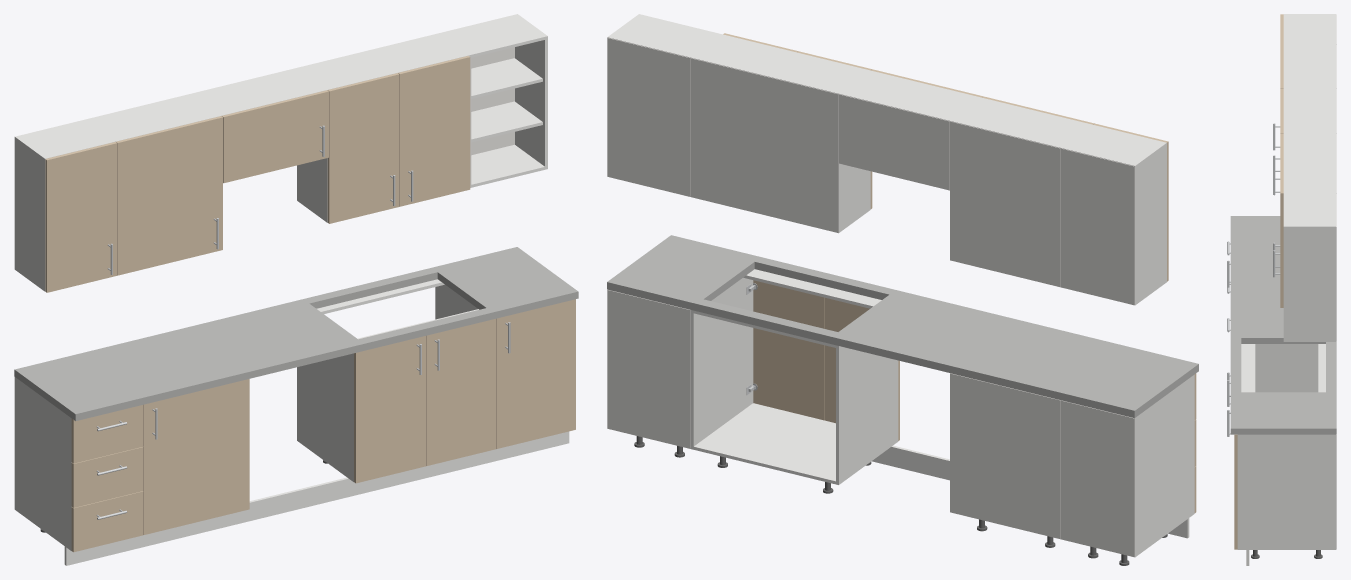
The model's file is kitchen_straight.glb.
The picture shows the model from 3 angles, left to right: view 1: azimuth 30°, elevation 25°; view 2: azimuth 150°, elevation 25°; view 3: azimuth 270°, elevation 25°; orthographic projection. The views are drawn at different scales.
Parts seen in each view (by area): view 1: 50:countertop, 64:wall[1].doors.door[1], 32:base[1].doors.door[1], 47:base[4].doors.door[1], 57:wall[0].doors.door[1], 78:wall[3].doors.door[2], 77:wall[3].doors.door[1], 38:base[3].doors.door[1], 39:base[3].doors.door[2], 1:base[0].side.left, 70:wall[2].doors.door[1], 48:kitchen.plinth[1] (+19 smaller); view 2: 50:countertop, 75:wall[3].back, 30:base[1].back, 62:wall[1].back, 45:base[4].back, 83:wall[4].back, 6:base[0].back, 55:wall[0].back, 1:base[0].side.left, 69:wall[2].back, 39:base[3].doors.door[2], 34:base[3].side.right (+12 smaller); view 3: 50:countertop, 41:base[4].side.right, 80:wall[4].side.right, 33:base[3].side.left, 74:wall[3].top, 68:wall[2].top, 61:wall[1].top, 82:wall[4].top, 54:wall[0].top, 36:base[3].rail.front, 78:wall[3].doors.door[2], 47:base[4].doors.door[1] (+3 smaller).
Part boxes in pixels (x1,y1,x2,y2): 50:countertop: (14,247,578,421); 64:wall[1].doors.door[1]: (116,116,222,275); 32:base[1].doors.door[1]: (143,379,249,534); 47:base[4].doors.door[1]: (496,299,575,448); 57:wall[0].doors.door[1]: (45,142,117,292); 78:wall[3].doors.door[2]: (398,56,470,206); 77:wall[3].doors.door[1]: (327,73,399,223); 38:base[3].doors.door[1]: (354,336,425,483); 39:base[3].doors.door[2]: (426,318,496,466); 1:base[0].side.left: (14,377,71,551); 70:wall[2].doors.door[1]: (222,90,328,183); 48:kitchen.plinth[1]: (64,451,489,565); 50:countertop: (607,235,1198,417); 75:wall[3].back: (690,58,838,232); 30:base[1].back: (950,373,1060,538); 62:wall[1].back: (950,121,1060,286); 45:base[4].back: (607,289,690,448); 83:wall[4].back: (607,38,690,196); 6:base[0].back: (1061,400,1134,557); 55:wall[0].back: (1061,148,1134,305); 1:base[0].side.left: (1134,374,1194,557); 69:wall[2].back: (839,94,949,190); 39:base[3].doors.door[2]: (753,280,824,420); 34:base[3].side.right: (690,277,753,449); 50:countertop: (1230,216,1336,434); 41:base[4].side.right: (1237,434,1335,549); 80:wall[4].side.right: (1283,225,1335,341); 33:base[3].side.left: (1255,344,1318,392); 74:wall[3].top: (1283,134,1335,191); 68:wall[2].top: (1283,89,1335,132); 61:wall[1].top: (1283,45,1335,87); 82:wall[4].top: (1283,194,1335,225); 54:wall[0].top: (1283,15,1335,42); 36:base[3].rail.front: (1241,344,1255,392); 78:wall[3].doors.door[2]: (1280,163,1283,307); 47:base[4].doors.door[1]: (1234,434,1237,549).
Size of the model in its own units: 2.85 by 2.12 by 0.6178.
